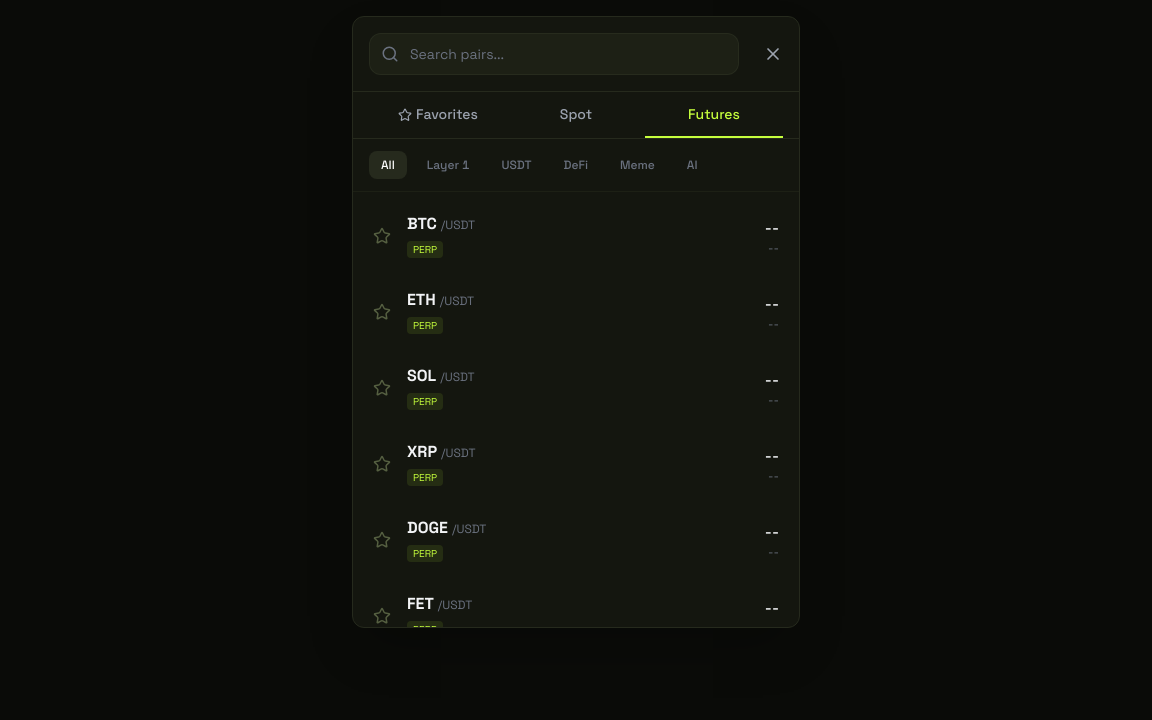
MarketSelector › 3. Search ETH
In the field with placeholder "Search pairs...": {"x": 554, "y": 54} left=369, top=33, right=739, bottom=75, type "ETH"
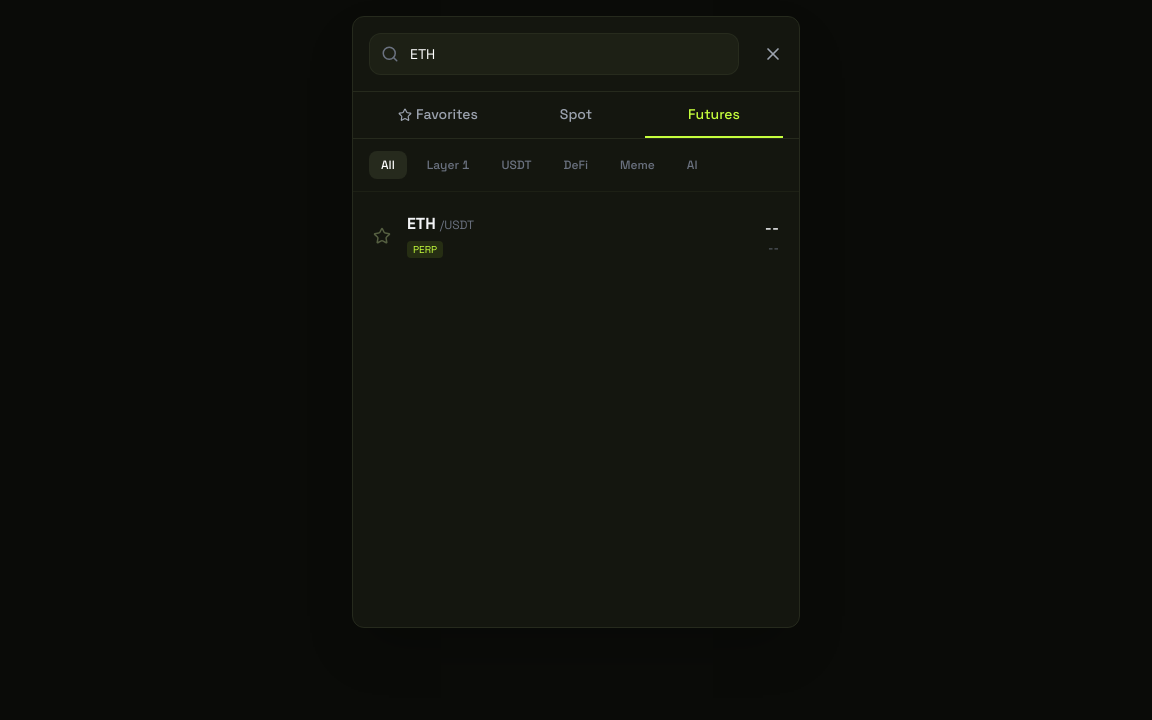
expect the text "ETH" is shown: met, box left=407, top=212, right=436, bottom=236
expect the text "BTC" is gone: met
